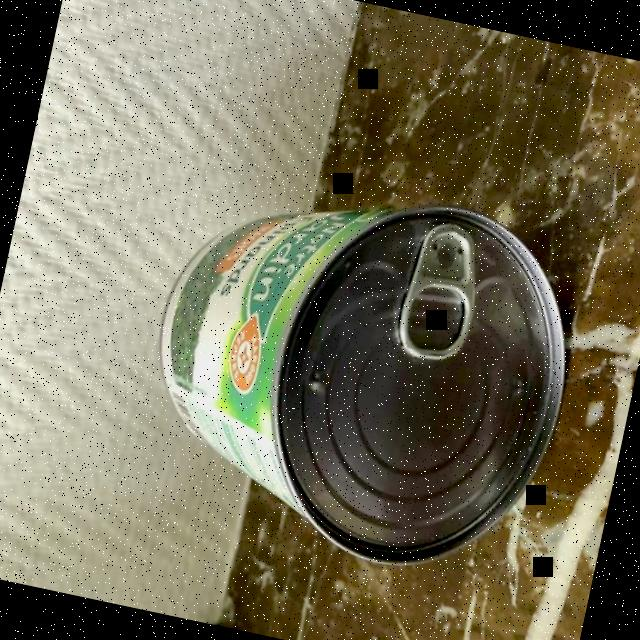can: (117, 147, 599, 595)
